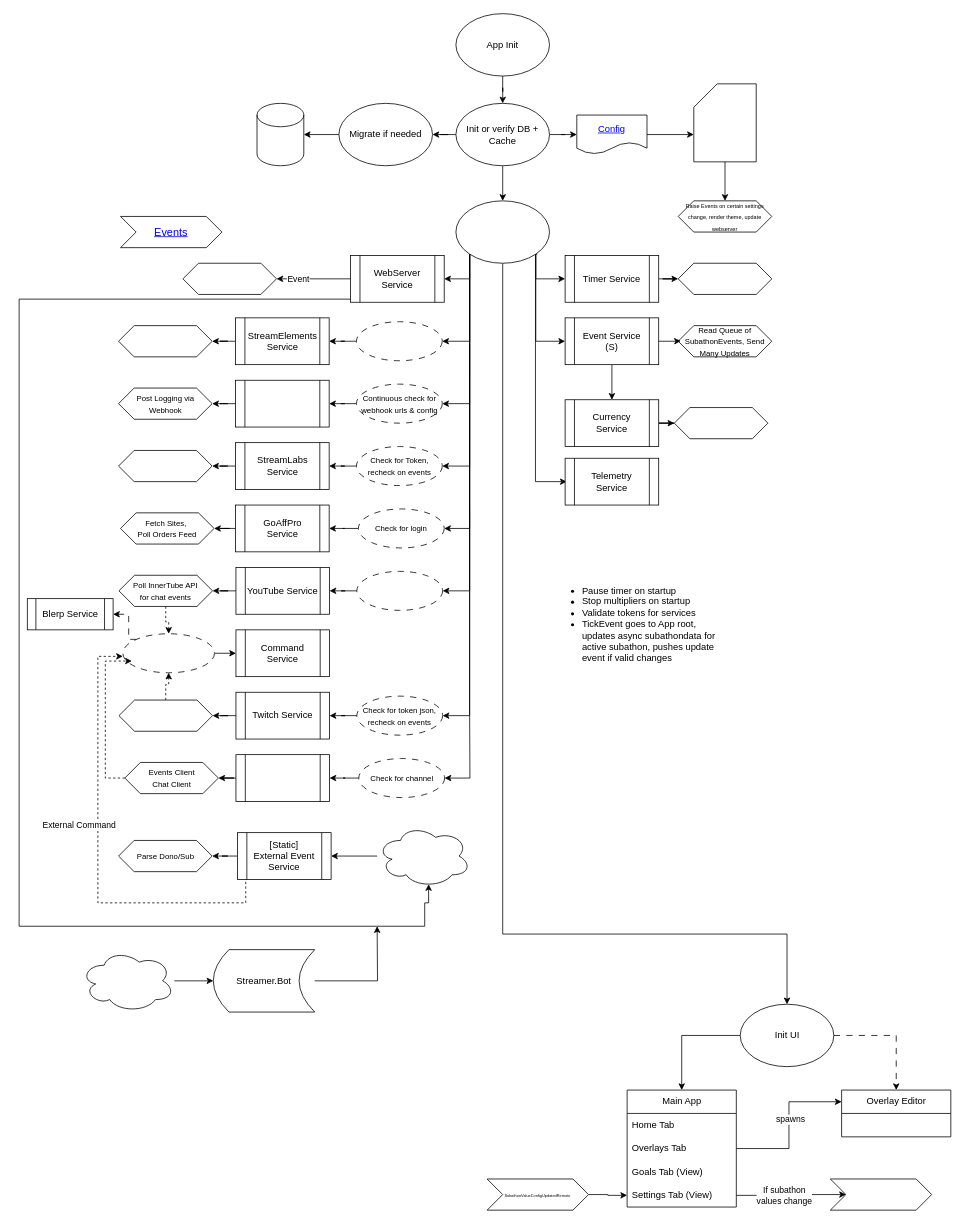
Some shapes in this 965 by 1224 pixel diagram are drawn without their labels. The centre of each missing label's shape, as x and y in pixels:
Check for Handle: (399,590)
Check for JWT, recheck on events: (399,341)
ConfigFile Watcher: (724,122)
Discord Webhook Service: (282,403)
EventSub Chat API Auth: (165,715)
External System Call POST endpoint: (423,855)
Fetch FloatRates for currency, convert on request: (721,423)
Host Websocket and Overlay Pages: (229,278)
KoFi: (127,980)
Parse chat commands & extensions from event: (168,653)
Picarto Service: (282,777)
Raise Events that 1s have passed: (724,278)
Read Donations Websocket: (165,466)
Read Tips Websocket: (165,341)
Setup Async Services & DB Factory: (502,231)
SQLite: (280,134)
SubathonValueConfigRequested: (881,1194)
